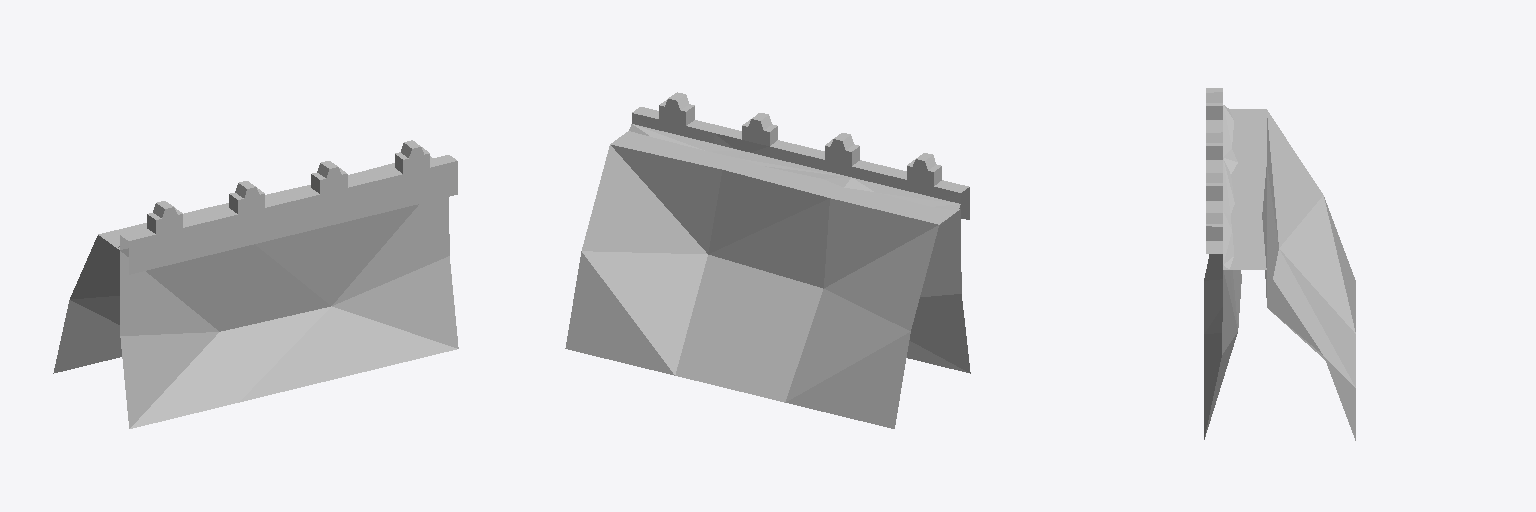
Rendered from templeStraightNarrowLongUpHorz_prefab.obj.
The picture shows the model from 3 angles: view 1: azimuth 30°, elevation 25°; view 2: azimuth 150°, elevation 25°; view 3: azimuth 270°, elevation 25°; orthographic projection.
Visible parts, largest first — view 1: Object242-Pivot; view 2: Object242-Pivot; view 3: Object242-Pivot.
Boxes of the visible parts, x1,y1,x2,y2 form: Object242-Pivot: [53, 140, 458, 428]; Object242-Pivot: [565, 92, 970, 428]; Object242-Pivot: [1204, 88, 1355, 440].
Size of the model in its own units: 60.17 by 36.77 by 24.07.